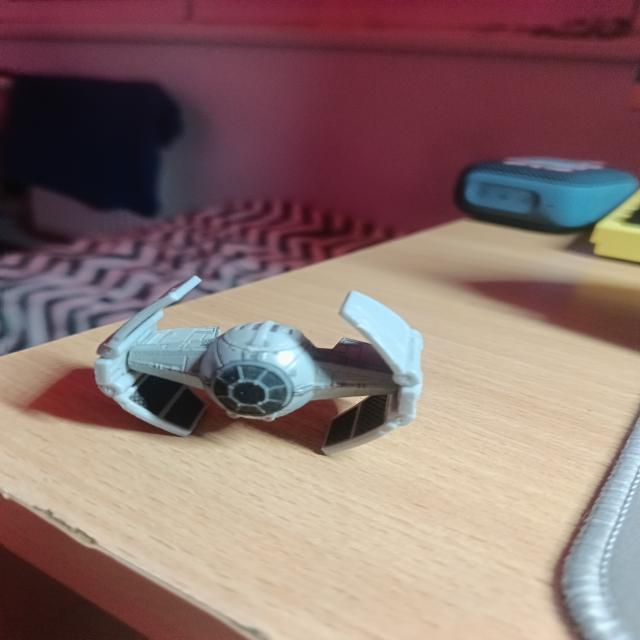tie fighter: (94, 277, 423, 454)
